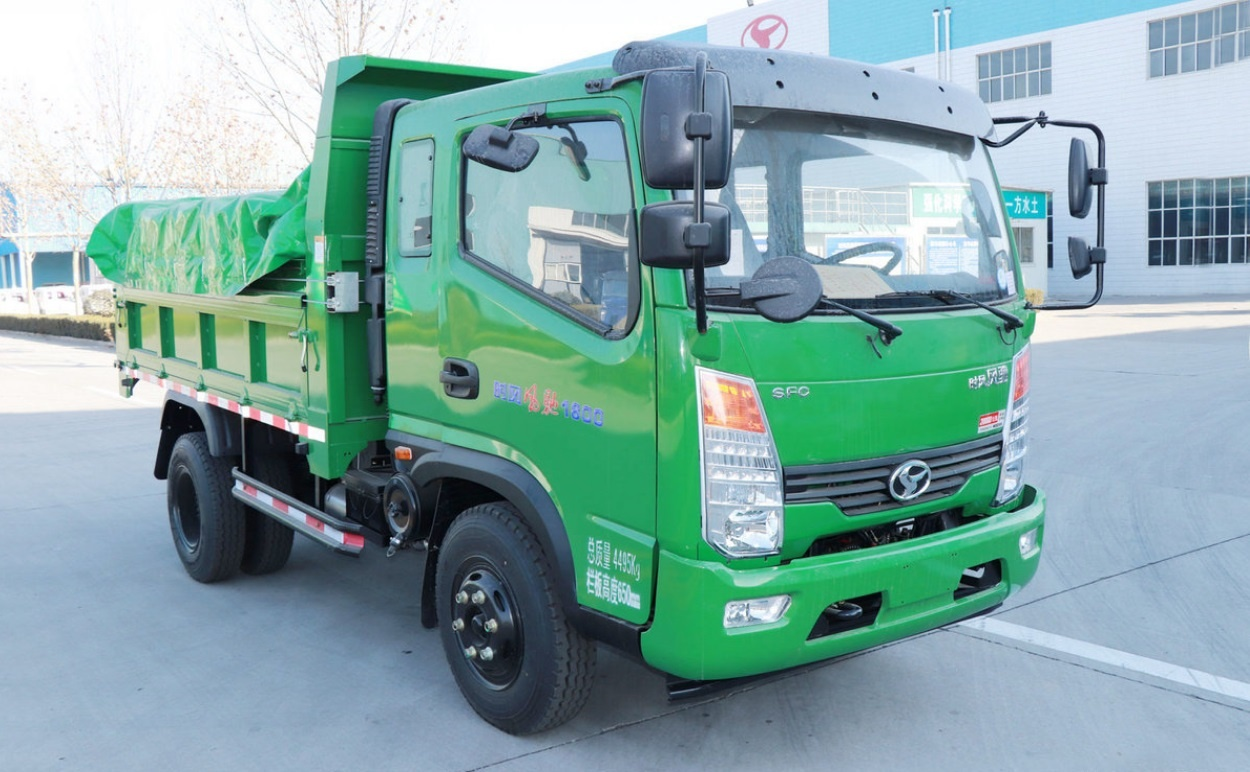truck: (87, 86, 1087, 713)
